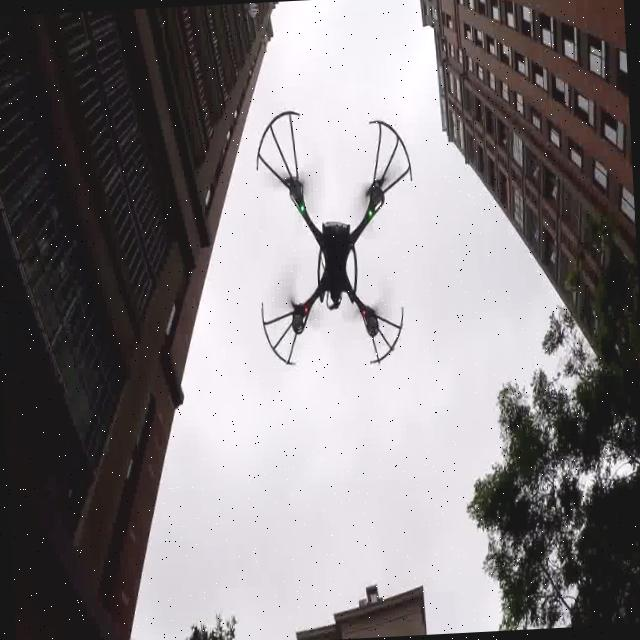drone: (248, 108, 429, 386)
